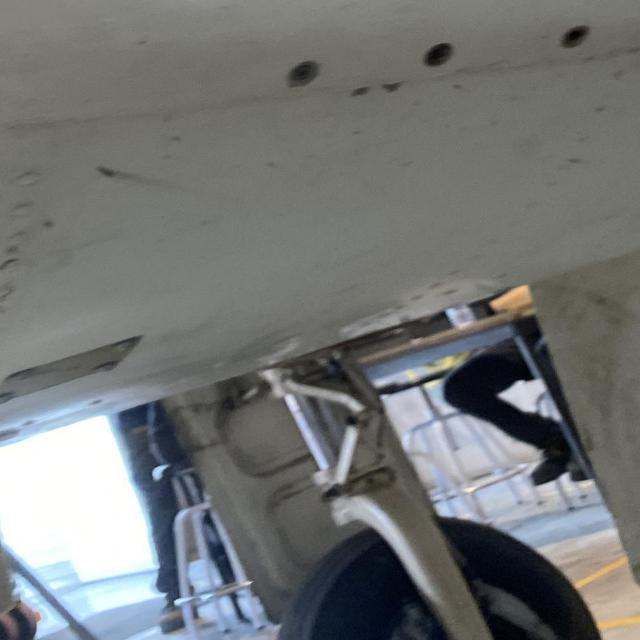Missing-head: (286, 62, 320, 90), (422, 44, 455, 69), (561, 26, 591, 50)
Paint-off: (350, 89, 371, 99), (382, 86, 401, 95)
